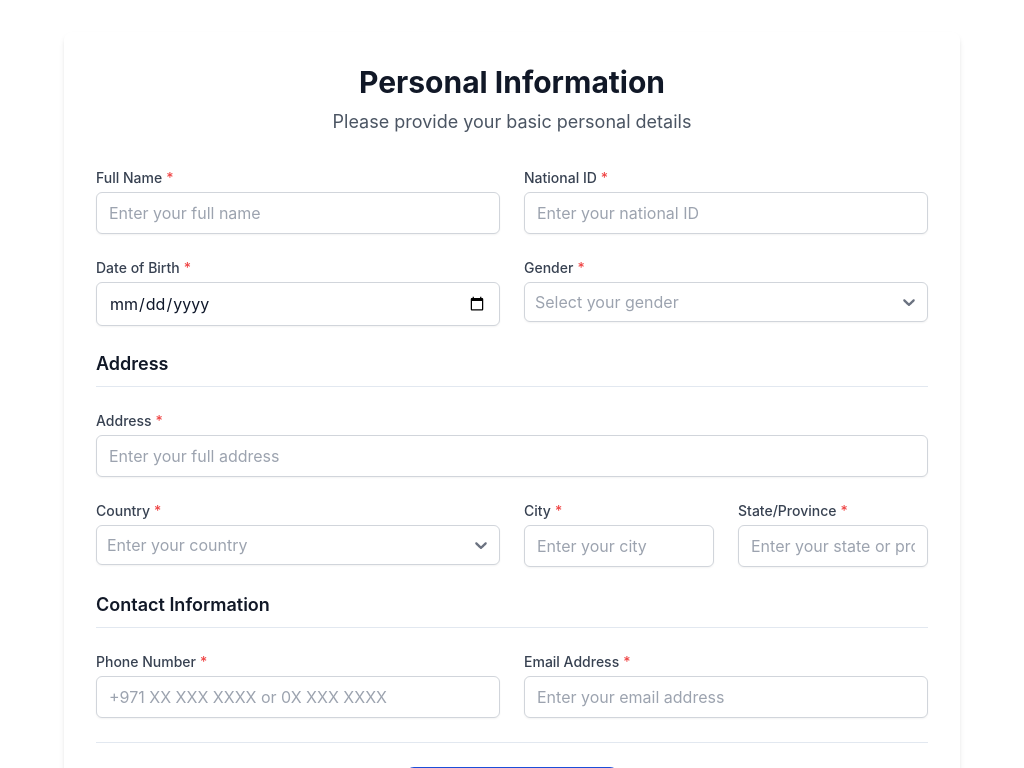
Scenario: PersonalInformation Component › shows unsaved changes message when form is dirty
Type "Test Name" into the field labelled "Full Name*".
click(298, 213); type("Test Name")  # box [96,192,500,234]
(page scrolled)
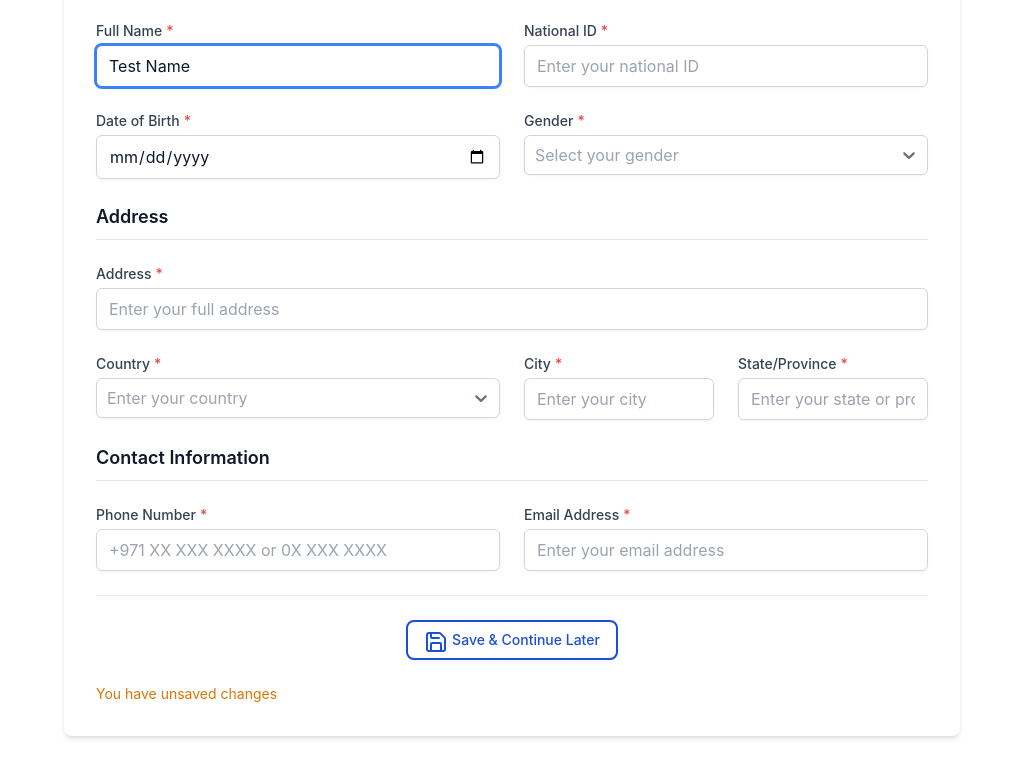
Check: the text "You have unsaved changes" is shown, box [96,685,277,702]
